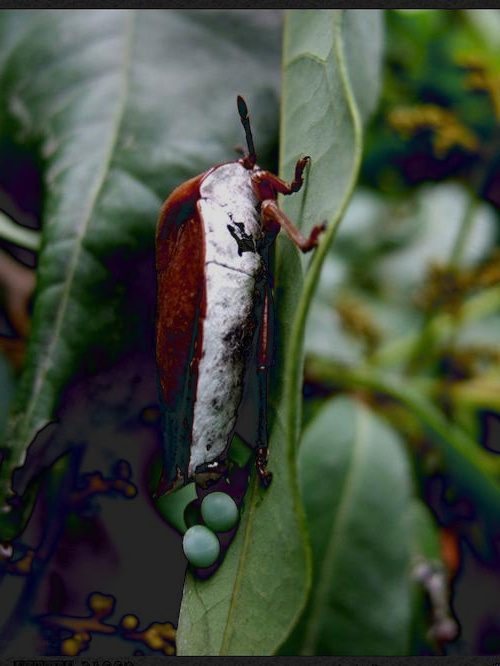Stink_Bug: (148, 112, 309, 570)
